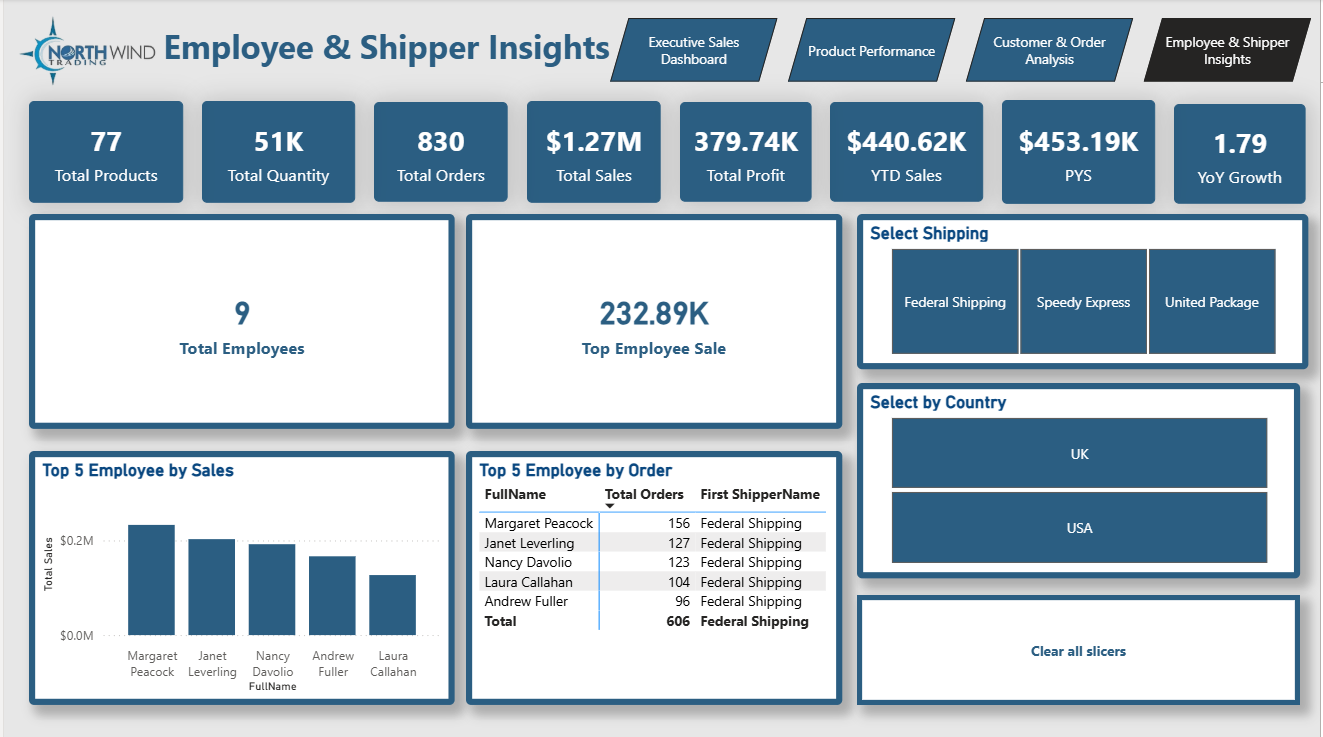

The page's visual inventory and layout, read from the dashboard file:
{"tool":"powerbi","page":{"name":"Employee & Shipper Insights","canvas":[1280,720],"ordinal":3},"visuals":[{"type":"card","fields":{"Values":["Measurestbl.Total Sales"]},"box":[508.6,99.6,130.3,99.2],"z":0},{"type":"textbox","box":[149.8,18.5,464.9,62.2],"z":1000},{"type":"image","box":[0,0,173.1,122.6],"z":2000},{"type":"card","fields":{"Values":["Measurestbl.YTD Sales"]},"box":[803.8,100.5,148.8,97.3],"z":3000},{"type":"card","fields":{"Values":["Measurestbl.YoY Growth"]},"box":[1138,102.1,128.4,97.3],"z":4000},{"type":"card","fields":{"Values":["Measurestbl.Total Orders"]},"box":[359.9,100.5,130.3,97.3],"z":5000},{"type":"card","fields":{"Values":["Measurestbl.Previous Year Sales"]},"box":[970.9,98.6,148.8,101.2],"z":6000},{"type":"card","fields":{"Values":["Measurestbl.Total Quantity"]},"box":[192.9,99.6,148.8,99.2],"z":7000},{"type":"card","fields":{"Values":["Measurestbl.Total Products"]},"box":[24.3,99.6,150.3,99.2],"z":8000},{"type":"card","fields":{"Values":["Measurestbl.Total Profit"]},"box":[657.2,100.5,128.4,97.3],"z":9000},{"type":"pageNavigator","box":[589.4,18.5,684.7,62.2],"z":10000},{"type":"lineClusteredColumnComboChart","title":"Top 5 Employee  by Sales","fields":{"Category":["DimEmployee.FullName"],"Y":["Measurestbl.Total Sales"]},"box":[24.3,439.6,414.3,247.1],"z":11000},{"type":"pivotTable","title":"Top 5 Employee by Order","fields":{"Rows":["DimEmployee.FullName"],"Values":["Measurestbl.Total Orders","Min(DimShipper.ShipperName)"]},"box":[449.4,439.6,365.7,247.1],"z":12000},{"type":"card","fields":{"Values":["Measurestbl.TopEmployee"]},"box":[449.4,209.1,365.7,209.1],"z":13000},{"type":"slicer","title":"Select Shipping ","fields":{"Values":["DimShipper.ShipperName"]},"box":[829.7,209.1,438.7,150.8],"z":14000},{"type":"slicer","title":"Select by Country ","fields":{"Values":["DimEmployee.Country"]},"box":[829.7,373.5,430.9,189.7],"z":15000},{"type":"card","fields":{"Values":["Measurestbl.Total Employees"]},"box":[24.3,209.1,414.3,209.1],"z":16000},{"type":"actionButton","box":[829.7,579.7,430.9,107],"z":17000}]}

Visuals, with their boxes in screenshot pixels (x1, y1, x2, y2), scaled from the page's 1280x720 canvas onto the 1323x737 screenshot:
card - Measurestbl.Total Sales: [left=526, top=102, right=660, bottom=203]
textbox: [left=155, top=19, right=635, bottom=83]
image: [left=0, top=0, right=179, bottom=125]
card - Measurestbl.YTD Sales: [left=831, top=103, right=985, bottom=202]
card - Measurestbl.YoY Growth: [left=1176, top=105, right=1309, bottom=204]
card - Measurestbl.Total Orders: [left=372, top=103, right=507, bottom=202]
card - Measurestbl.Previous Year Sales: [left=1004, top=101, right=1157, bottom=205]
card - Measurestbl.Total Quantity: [left=199, top=102, right=353, bottom=203]
card - Measurestbl.Total Products: [left=25, top=102, right=180, bottom=203]
card - Measurestbl.Total Profit: [left=679, top=103, right=812, bottom=202]
pageNavigator: [left=609, top=19, right=1317, bottom=83]
"Top 5 Employee  by Sales" lineClusteredColumnComboChart: [left=25, top=450, right=453, bottom=703]
"Top 5 Employee by Order" pivotTable: [left=464, top=450, right=842, bottom=703]
card - Measurestbl.TopEmployee: [left=464, top=214, right=842, bottom=428]
"Select Shipping " slicer: [left=858, top=214, right=1311, bottom=368]
"Select by Country " slicer: [left=858, top=382, right=1303, bottom=576]
card - Measurestbl.Total Employees: [left=25, top=214, right=453, bottom=428]
actionButton: [left=858, top=593, right=1303, bottom=703]
